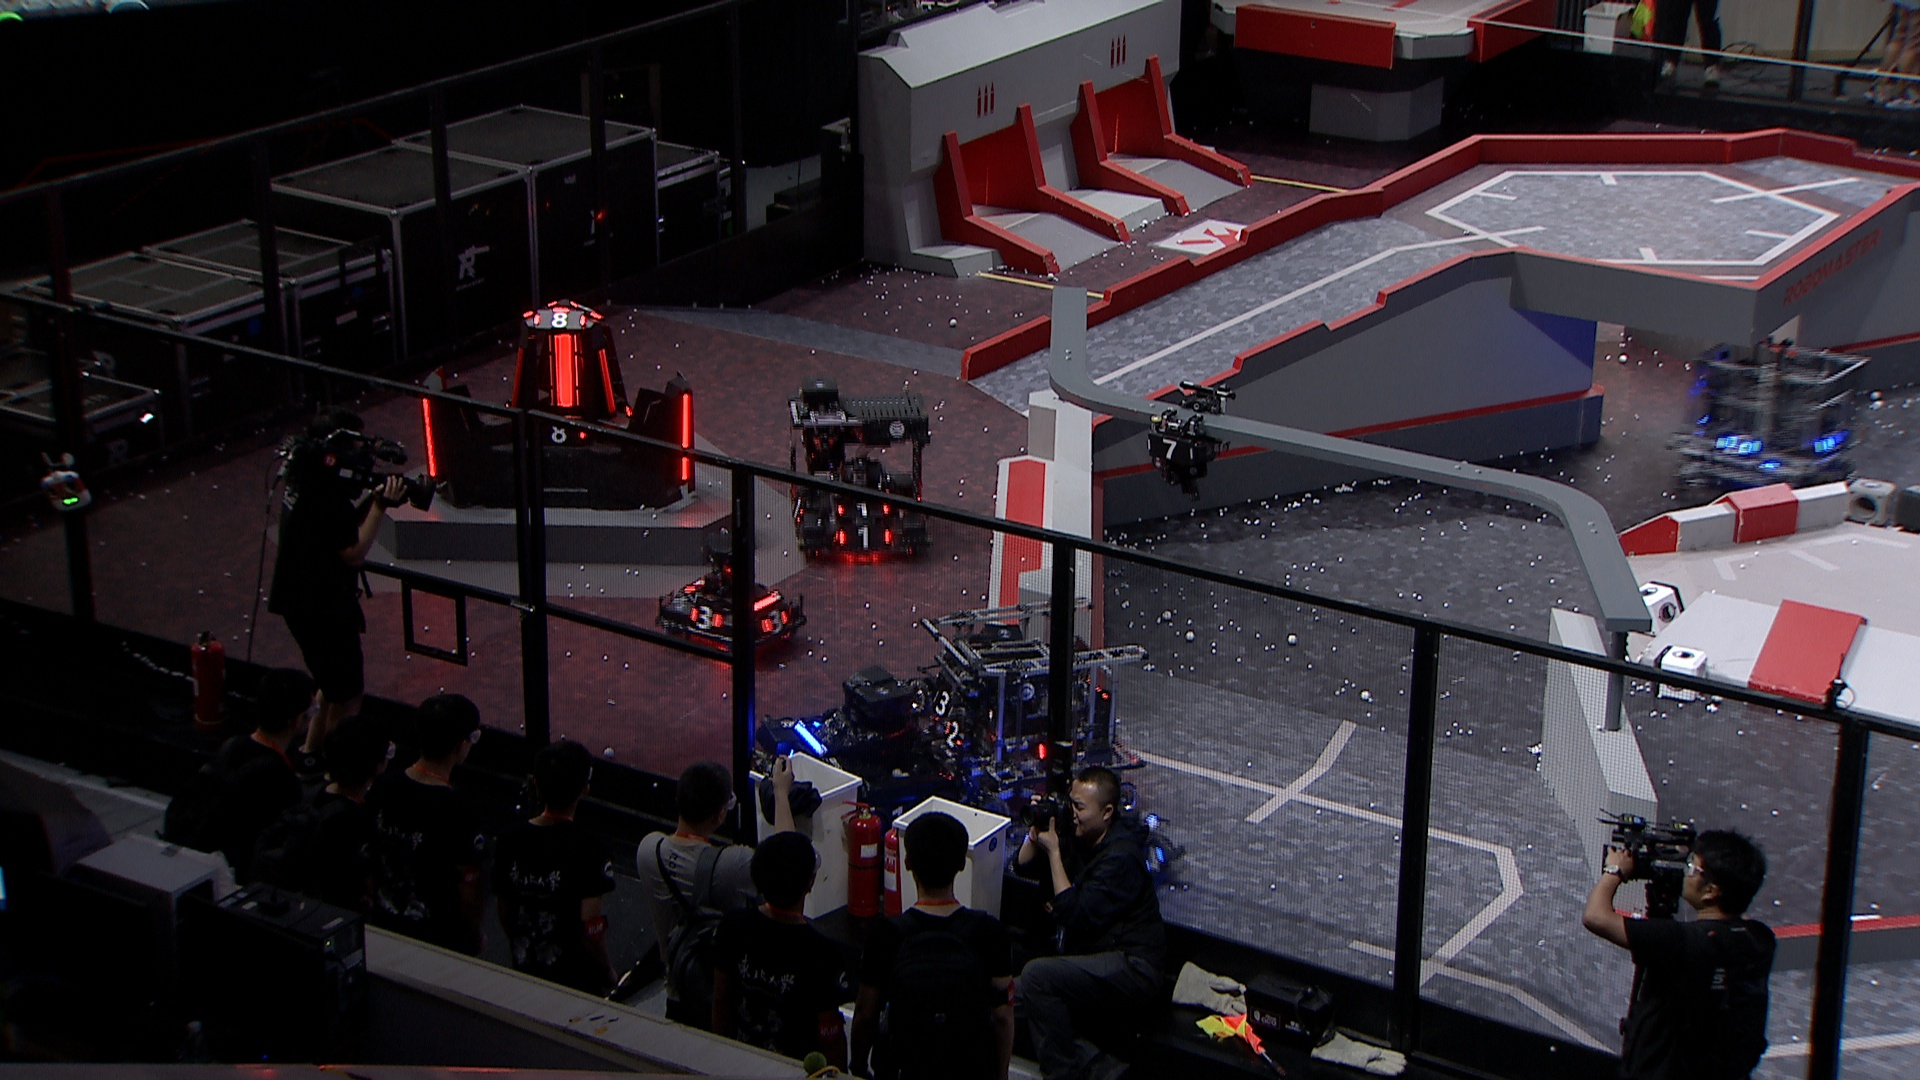armor: (545, 330, 582, 409), (419, 396, 442, 479), (678, 390, 694, 483), (597, 348, 618, 415), (1145, 434, 1195, 460), (837, 526, 891, 550), (684, 604, 727, 632), (538, 423, 589, 446), (833, 498, 891, 518), (1714, 431, 1759, 456), (531, 310, 588, 330), (509, 345, 526, 407), (1813, 427, 1849, 454), (942, 717, 969, 749), (1143, 841, 1168, 876), (760, 608, 789, 636), (785, 495, 807, 526)
base: (413, 301, 698, 510)
car: (909, 593, 1147, 807), (761, 665, 975, 853), (1673, 328, 1875, 502), (779, 375, 935, 564), (1022, 760, 1189, 898), (646, 524, 806, 659)
watcher: (1145, 380, 1240, 504)
